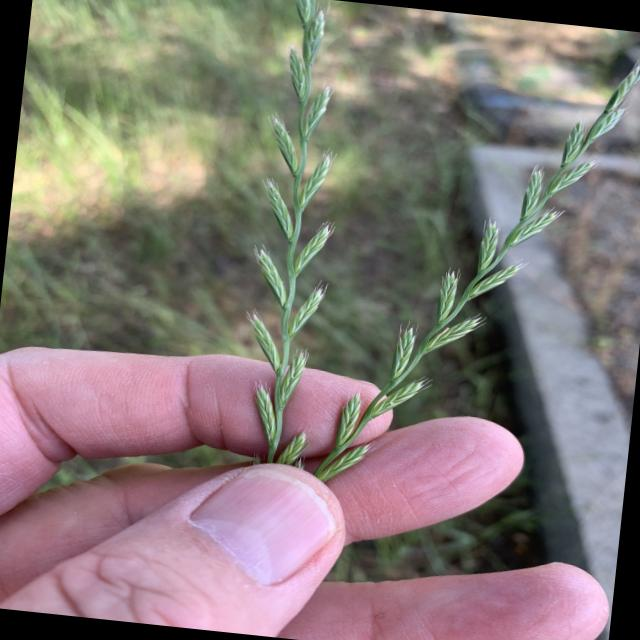Lolium: (322, 3, 640, 510), (225, 0, 363, 472)
